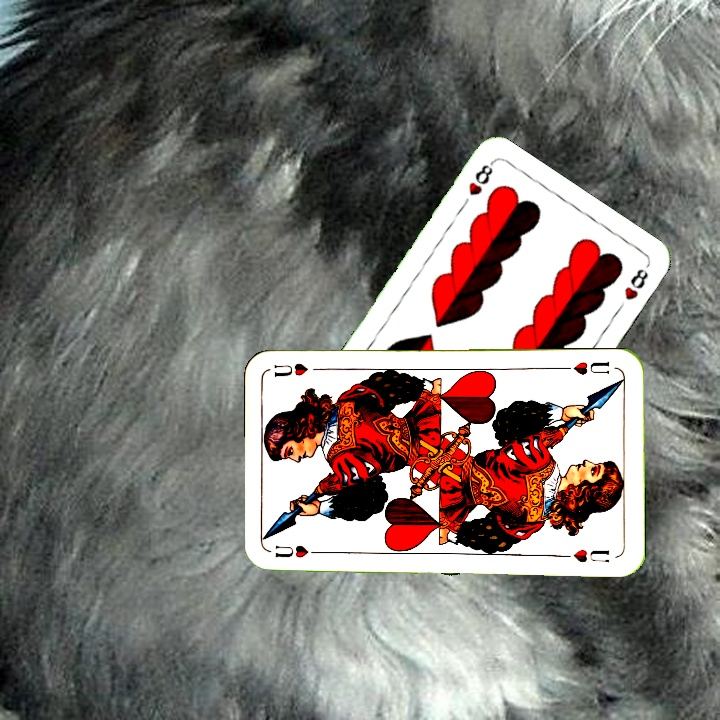H8: (464, 158, 496, 199)
HU: (271, 542, 329, 561), (569, 357, 612, 377)
